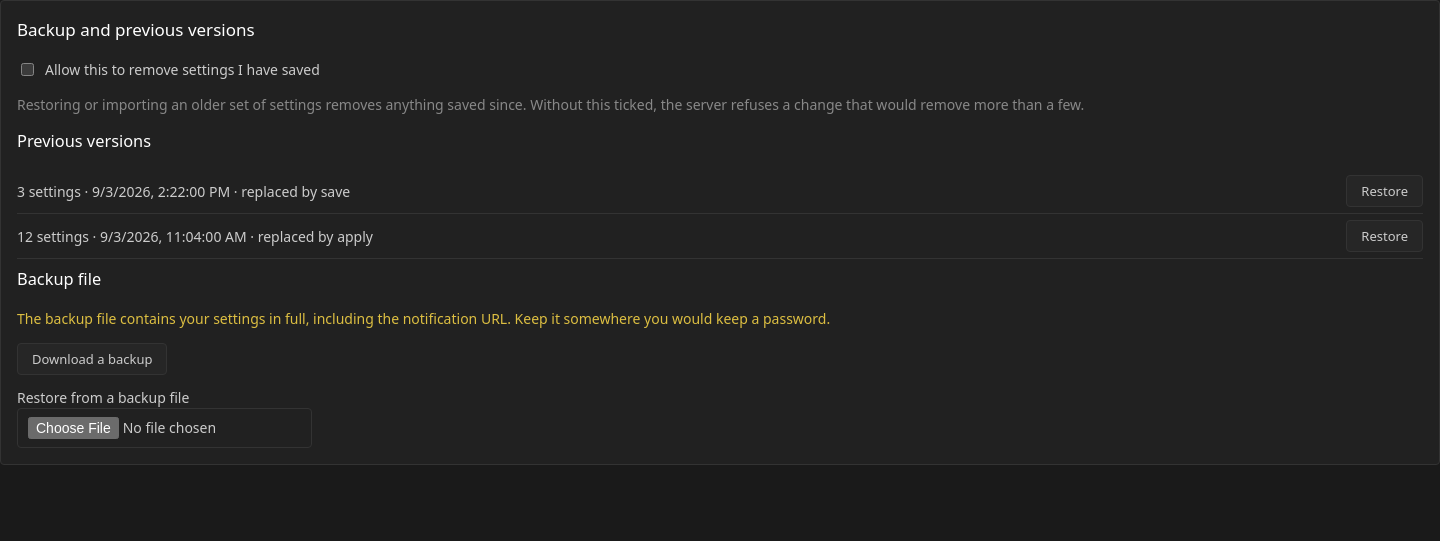
Scenario: the previous-versions list › surfaces a failed re-read on a stale restore too, instead of claiming the page is current
The image size is (1440, 541).
Click the 1st button "Restore". click: (1385,191)
box: left=1346, top=175, right=1423, bottom=207
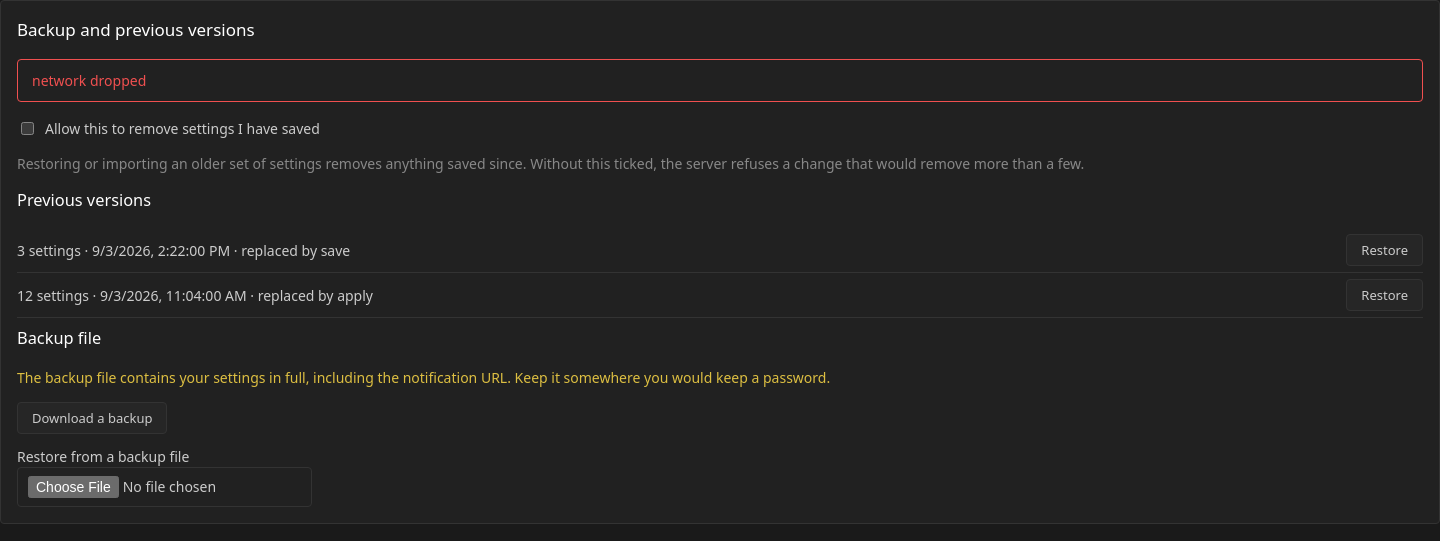
Check: the text "network dropped" is shown, box left=17, top=58, right=1423, bottom=102
